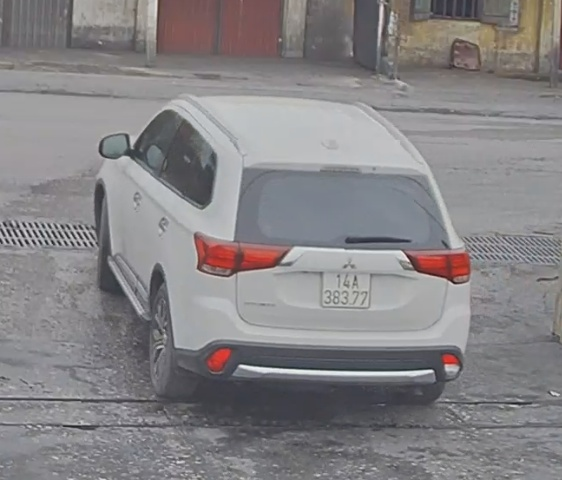vehicle plate: (319, 265, 372, 310)
